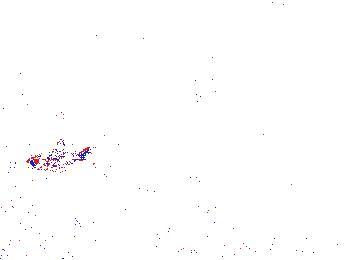red belly glassfish: (27, 145, 91, 172)
